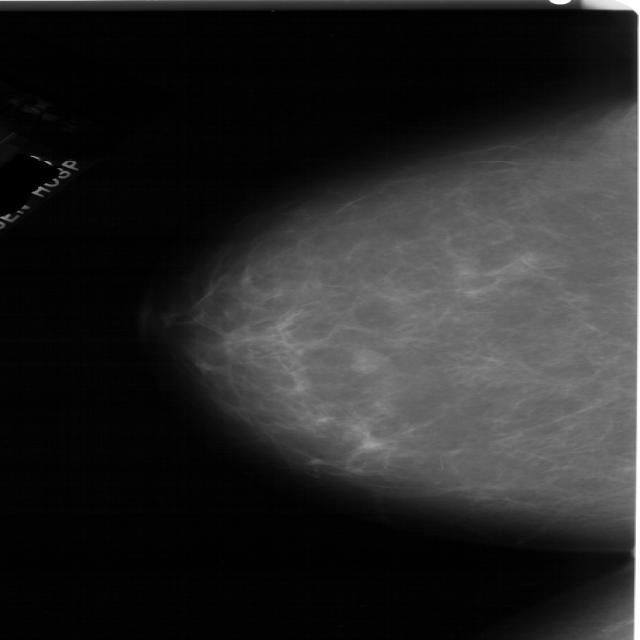tumour: (348, 346, 388, 373)
